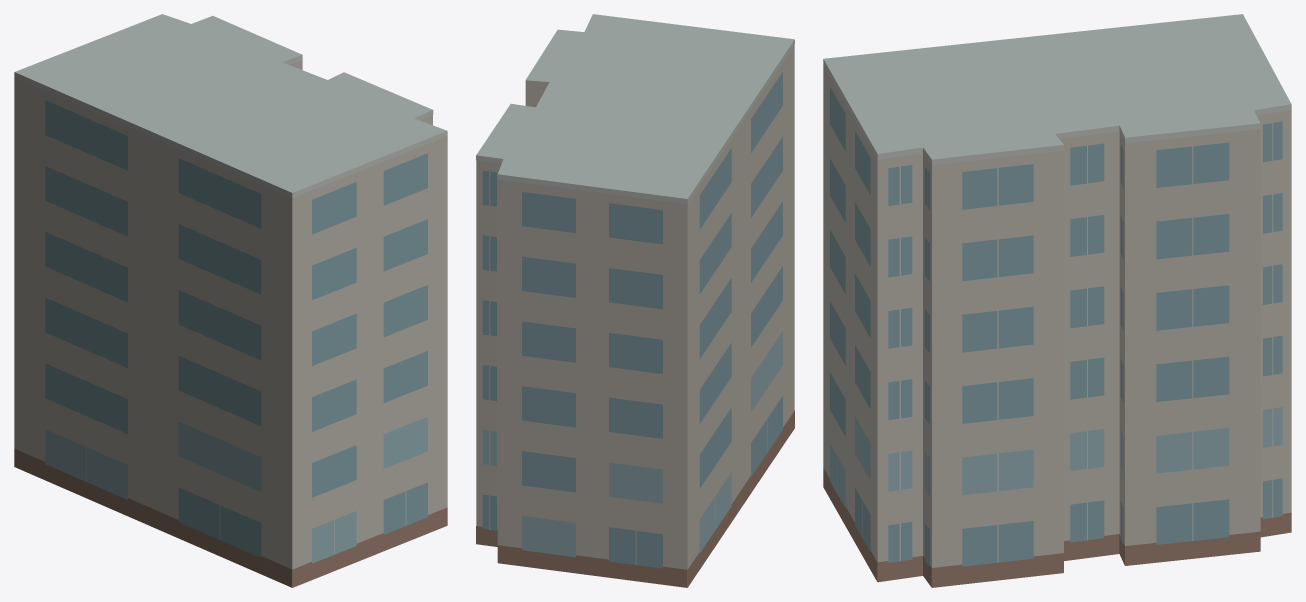
The model's file is survey-upis-32939010.glb.
3 views of the same model, side by side, from view 1: azimuth 30°, elevation 25°; view 2: azimuth 150°, elevation 25°; view 3: azimuth 270°, elevation 25° (orthographic). The views are drawn at different scales.
Parts seen in each view (by area): view 1: survey-upis-32939010.tmp; view 2: survey-upis-32939010.tmp; view 3: survey-upis-32939010.tmp.
Boxes of the visible parts, x1,y1,x2,y2 form: survey-upis-32939010.tmp: (14,14,447,587); survey-upis-32939010.tmp: (476,14,794,587); survey-upis-32939010.tmp: (823,14,1291,587).
Bounding box in the file's own units: 13.5 × 18.5 × 18.35.
